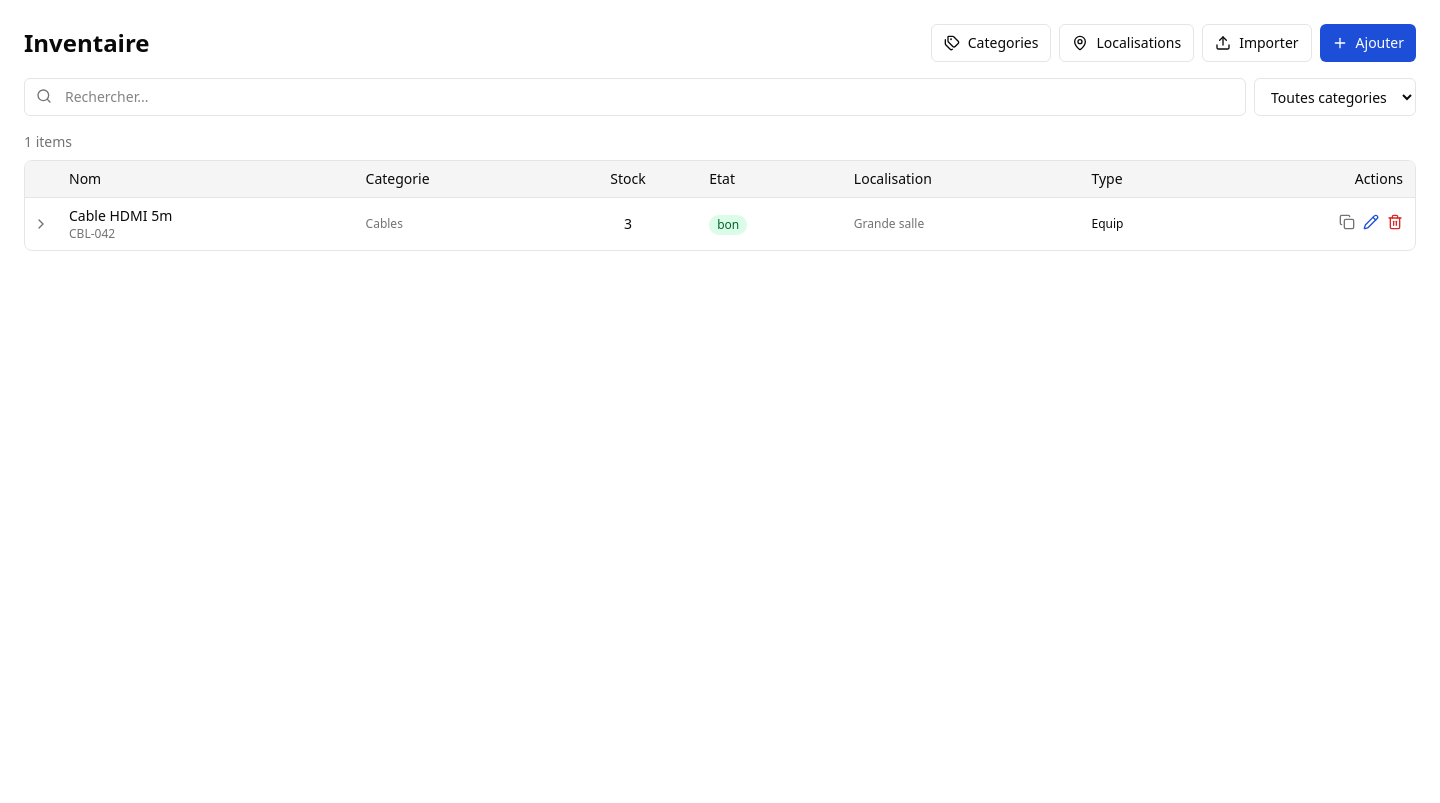
Test: duplicating an item › opens the form as an addition, not as an edit
Expected: the text "Cable HDMI 5m" is shown, top-left (69, 206), bottom-right (172, 225)
Click the button named "Dupliquer Cable HDMI 5m". click: (1347, 222)
box: top-left (1339, 214), bottom-right (1355, 230)
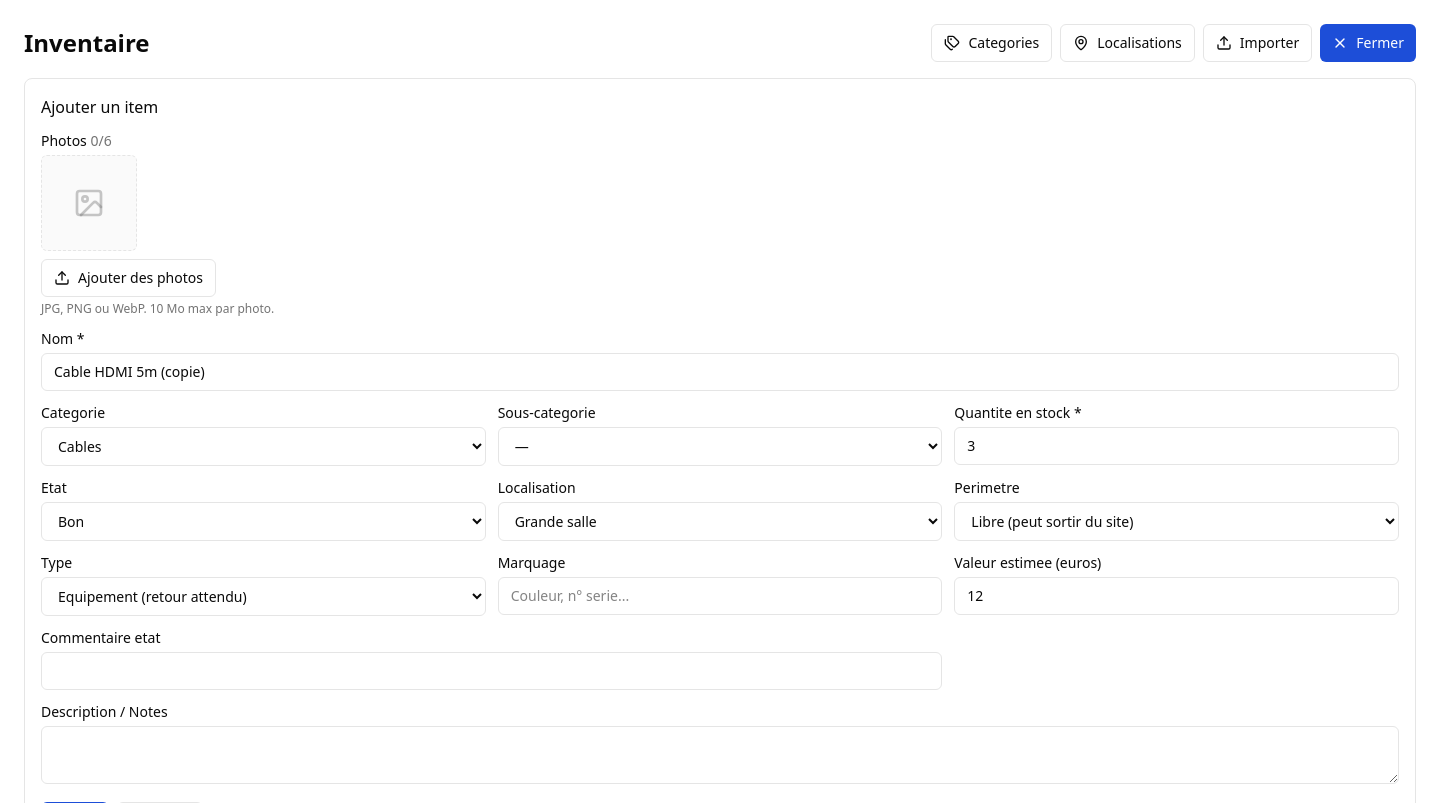
Now the heading "Ajouter un item" is shown, box top-left (41, 96), bottom-right (158, 118)
